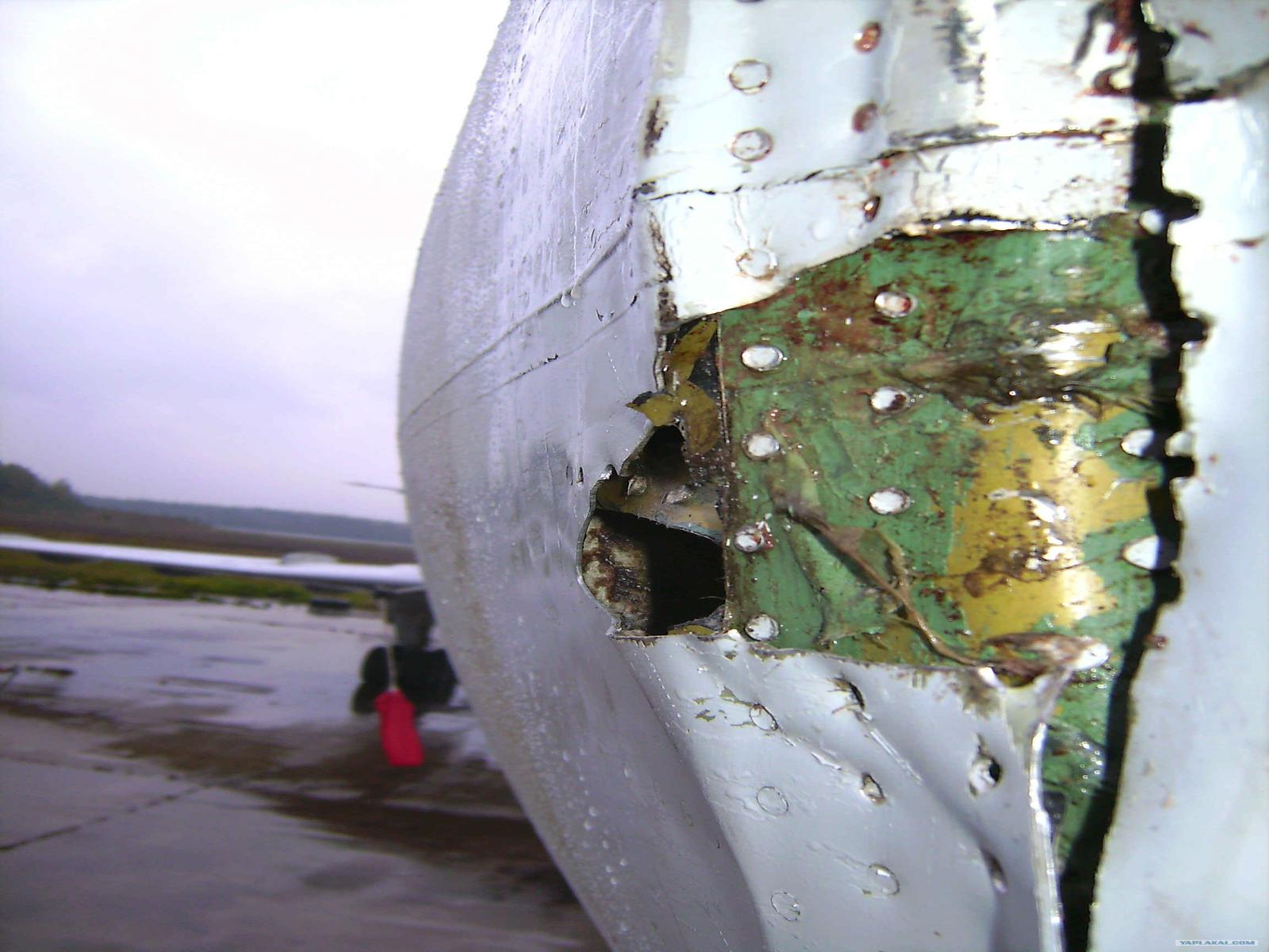Fuselage_damage: (639, 216, 1162, 854), (1062, 0, 1208, 952)
